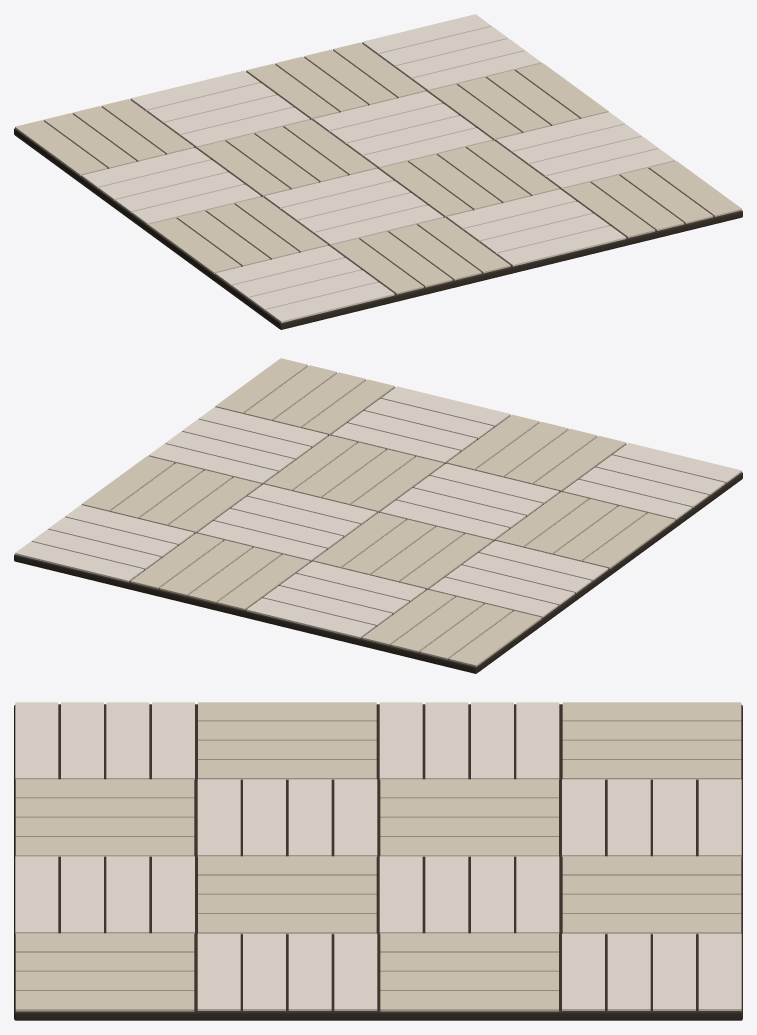
Rendered from floor_parquet.glb.
The picture shows the model from 3 angles, top to bottom: view 1: azimuth 30°, elevation 25°; view 2: azimuth 150°, elevation 25°; view 3: azimuth 270°, elevation 25°; orthographic projection. The views are drawn at different scales.
Visible parts, largest first — view 1: floor_parquet; view 2: floor_parquet; view 3: floor_parquet.
Part boxes in pixels (x1,y1,x2,y2): floor_parquet: (14, 14, 742, 329); floor_parquet: (14, 358, 742, 673); floor_parquet: (14, 702, 742, 1020).
Size of the model in its own units: 2 by 0.036 by 2.
